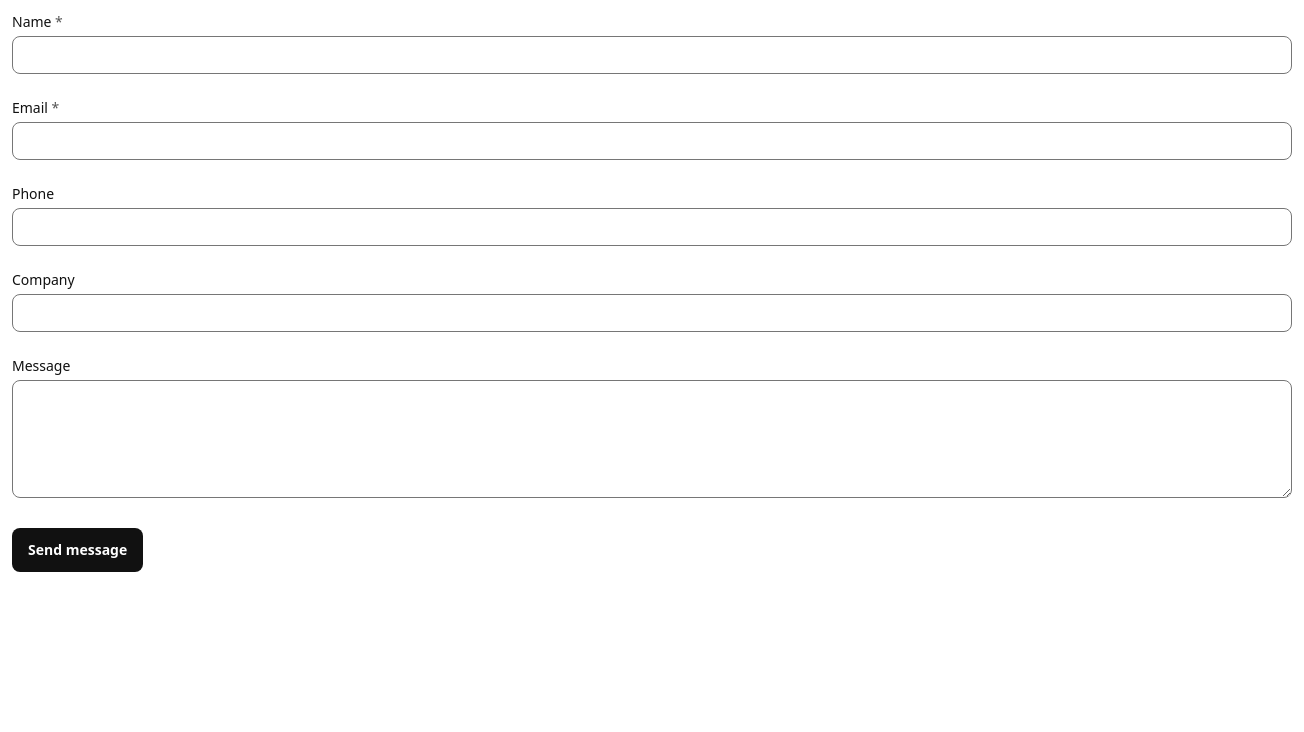
Test: LeadForm › requires a name
Step 1. Type "person@example.com" into the field labelled "Email *" → (652, 141), box [12,122,1292,160]
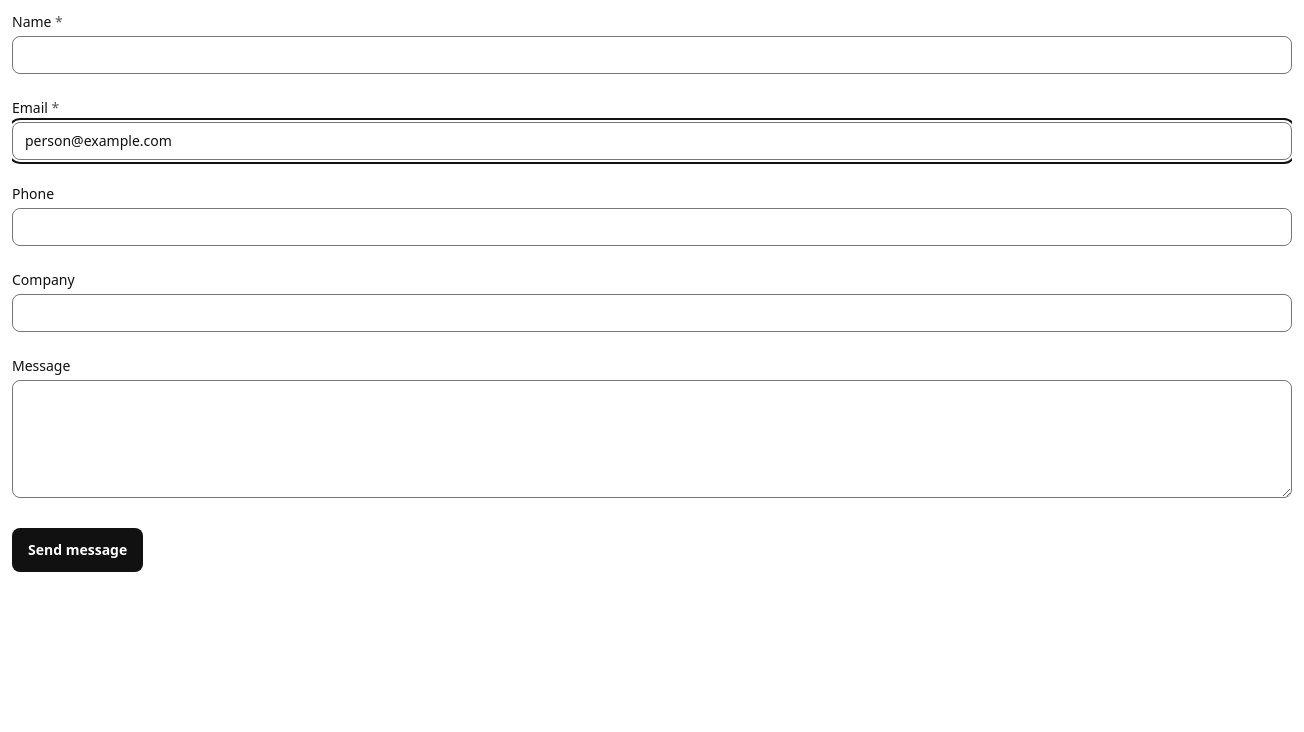
Step 2. Click the button "Send message" → click(78, 550), box [12,528,143,572]
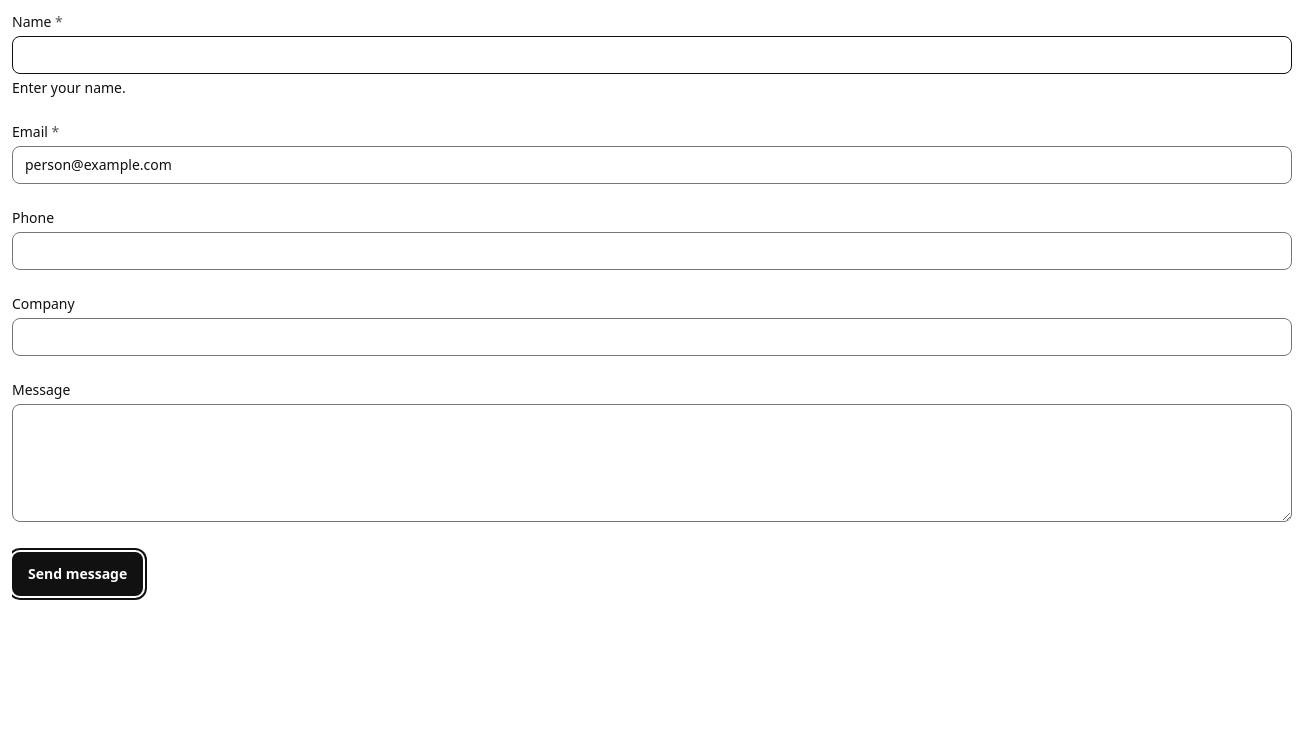
Result: the message reads "Enter your name." at [12,78,126,97]
